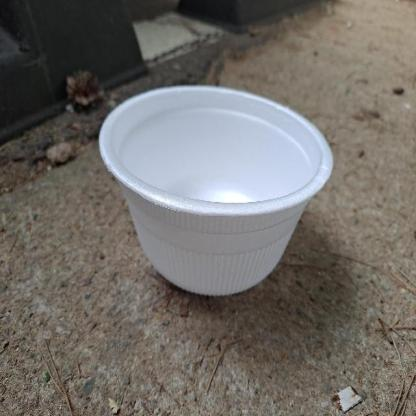Glass Cup: (99, 84, 333, 297), (99, 86, 333, 295)
